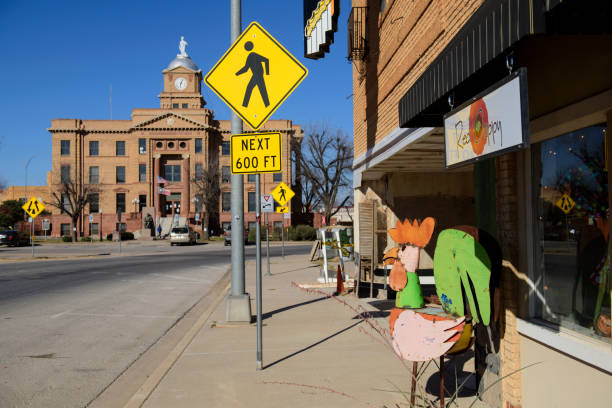pedestrian: (208, 23, 303, 121), (270, 182, 294, 206)
